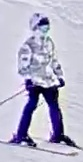skier: (0, 13, 83, 157)
